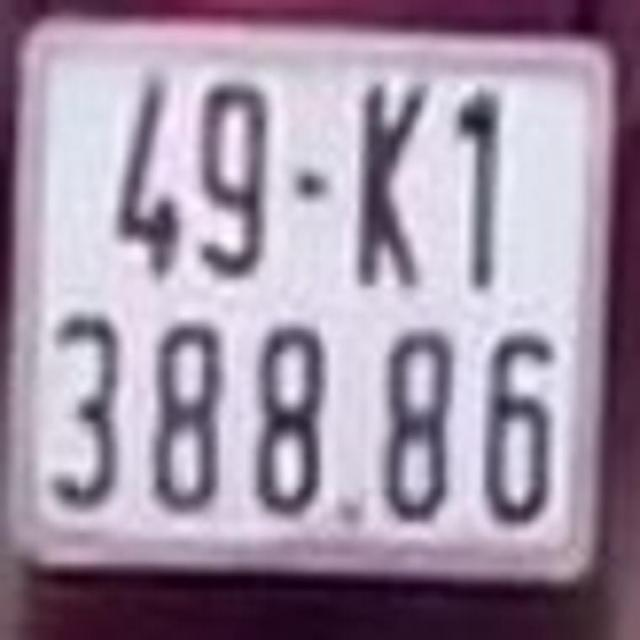1: (458, 81, 500, 290)
3: (52, 313, 119, 505)
4: (112, 70, 183, 276)
6: (480, 326, 555, 524)
8: (154, 314, 223, 509), (258, 321, 320, 514), (391, 330, 449, 520)
9: (204, 82, 274, 280)
K: (360, 79, 427, 284)
